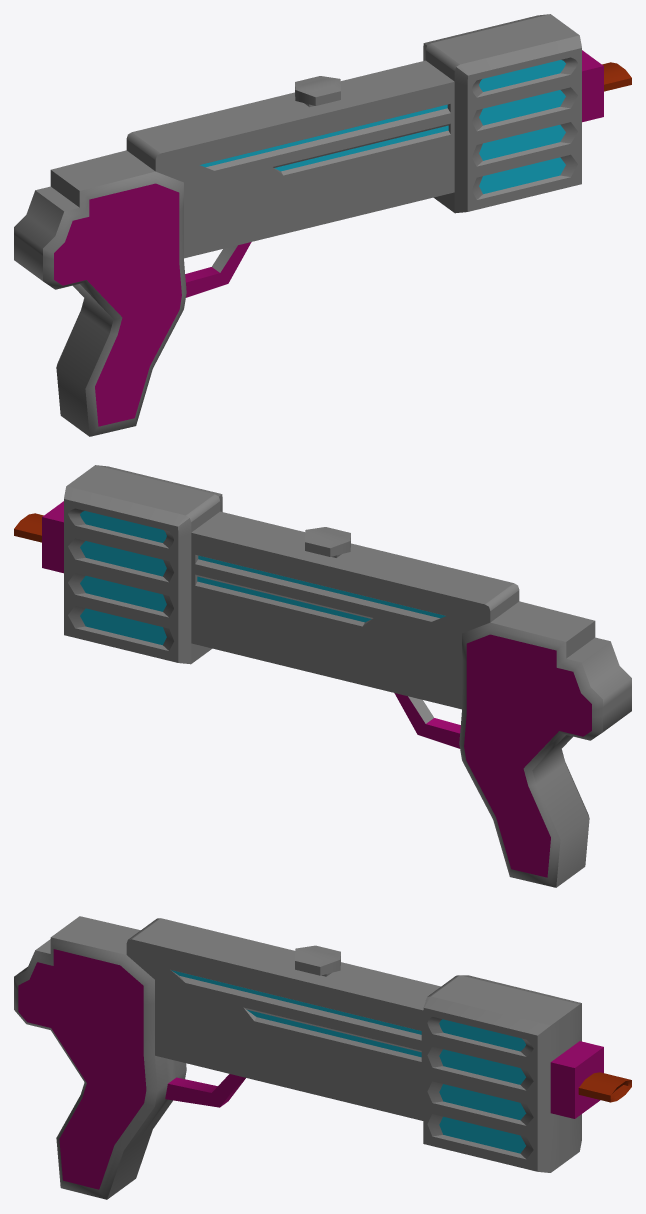
Rendered from Destruction Gun.fbx.
The picture shows the model from 3 angles, top to bottom: view 1: azimuth 30°, elevation 25°; view 2: azimuth 150°, elevation 25°; view 3: azimuth 330°, elevation 25°; orthographic projection.
Visible parts, largest first — view 1: Gun Fin; view 2: Gun Fin; view 3: Gun Fin.
Boxes of the visible parts, <box> form: Gun Fin: <box>14,14,631,436</box>; Gun Fin: <box>14,465,631,887</box>; Gun Fin: <box>14,916,631,1199</box>.
Size of the model in its own units: 22.29 by 10.17 by 2.89.
